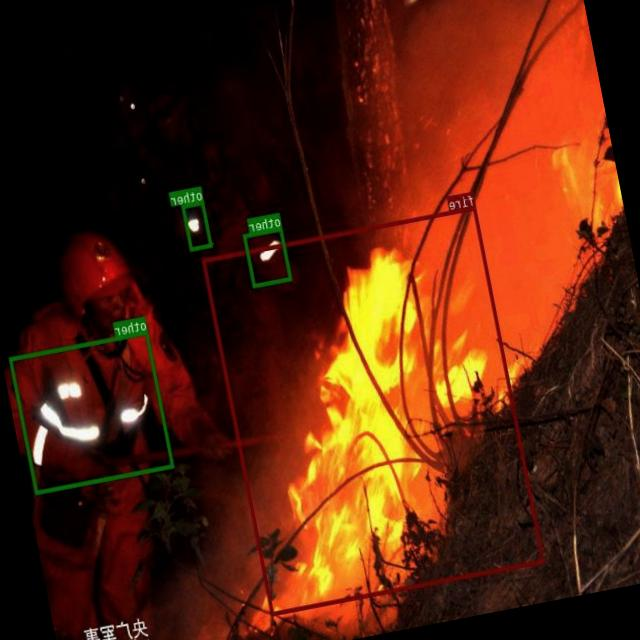fire: (202, 205, 546, 616)
